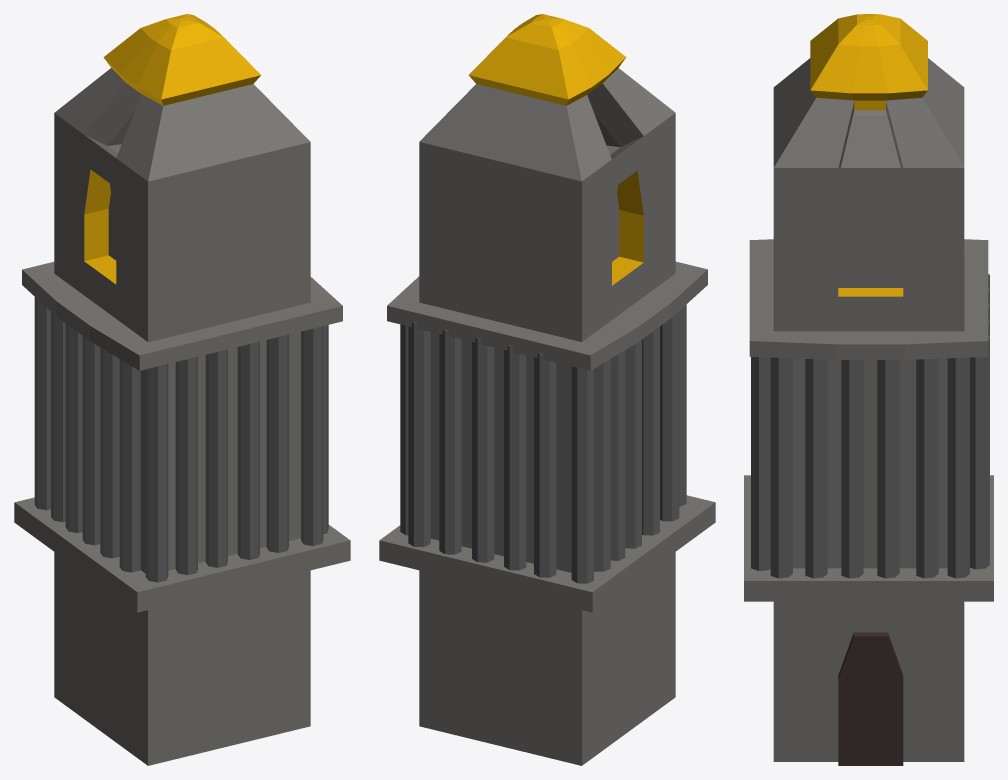
Rendered from house2.fbx.
3 renders of one model, left to right at view 1: azimuth 30°, elevation 25°; view 2: azimuth 150°, elevation 25°; view 3: azimuth 270°, elevation 25°, orthographic.
Visible parts, largest first — view 1: Cube, Cylinder.017, Cylinder.022, Cylinder.021, Cylinder.019, Cylinder.018, Cylinder.020, Cylinder.016, Cylinder.015, Cylinder.014, Cylinder.013, Cylinder.011 (+2 smaller); view 2: Cube, Cylinder.009, Cylinder.007, Cylinder.010, Cylinder.008, Cylinder.006, Cylinder.011, Cylinder.016, Cylinder.015, Cylinder.012, Cylinder.014, Cylinder.013 (+2 smaller); view 3: Cube, Cylinder.005, Cylinder, Cylinder.004, Cylinder.001, Cylinder.003, Cylinder.002, Cylinder.006, Cylinder.022.
Part boxes in pixels (bbox=[...]): Cube: bbox=[14, 14, 350, 765]; Cylinder.017: bbox=[145, 364, 168, 582]; Cylinder.022: bbox=[301, 326, 323, 545]; Cylinder.021: bbox=[266, 334, 288, 552]; Cylinder.019: bbox=[205, 349, 227, 567]; Cylinder.018: bbox=[175, 356, 197, 574]; Cylinder.020: bbox=[237, 341, 259, 559]; Cylinder.016: bbox=[119, 359, 140, 572]; Cylinder.015: bbox=[100, 347, 119, 558]; Cylinder.014: bbox=[82, 336, 100, 545]; Cylinder.013: bbox=[65, 323, 82, 532]; Cylinder.011: bbox=[34, 297, 50, 510]; Cube: bbox=[379, 14, 715, 765]; Cylinder.009: bbox=[504, 345, 526, 570]; Cylinder.007: bbox=[439, 329, 461, 554]; Cylinder.010: bbox=[534, 352, 556, 577]; Cylinder.008: bbox=[472, 337, 494, 562]; Cylinder.006: bbox=[408, 321, 430, 546]; Cylinder.011: bbox=[571, 366, 593, 583]; Cylinder.016: bbox=[660, 311, 679, 521]; Cylinder.015: bbox=[642, 326, 659, 535]; Cylinder.012: bbox=[594, 359, 610, 571]; Cylinder.014: bbox=[625, 340, 641, 548]; Cylinder.013: bbox=[610, 350, 625, 560]; Cube: bbox=[744, 14, 993, 765]; Cylinder.005: bbox=[947, 357, 969, 578]; Cylinder: bbox=[770, 357, 792, 578]; Cylinder.004: bbox=[916, 358, 938, 578]; Cylinder.001: bbox=[805, 359, 827, 578]; Cylinder.003: bbox=[877, 360, 899, 578]; Cylinder.002: bbox=[841, 360, 863, 578]; Cylinder.006: bbox=[970, 336, 989, 569]; Cylinder.022: bbox=[751, 356, 770, 570].
Size of the model in its own units: 2173 by 6633 by 2137.
